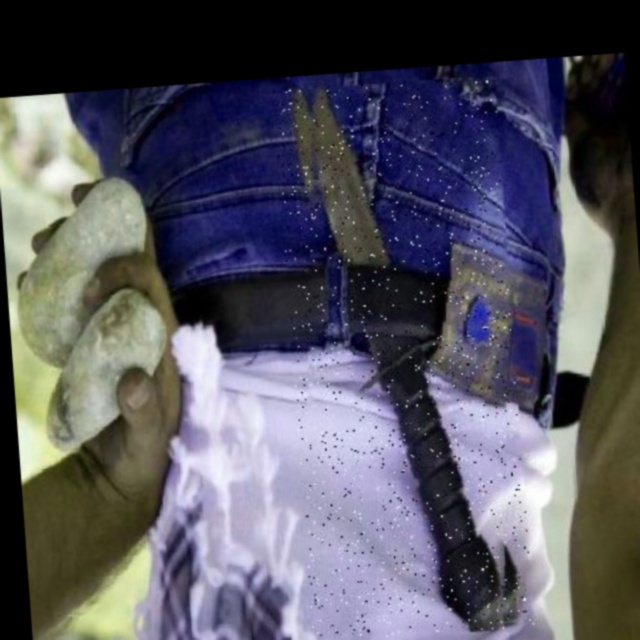Sharp-Object: (273, 75, 534, 640)
